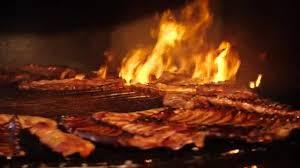fire: (111, 3, 240, 89), (247, 72, 263, 89)
